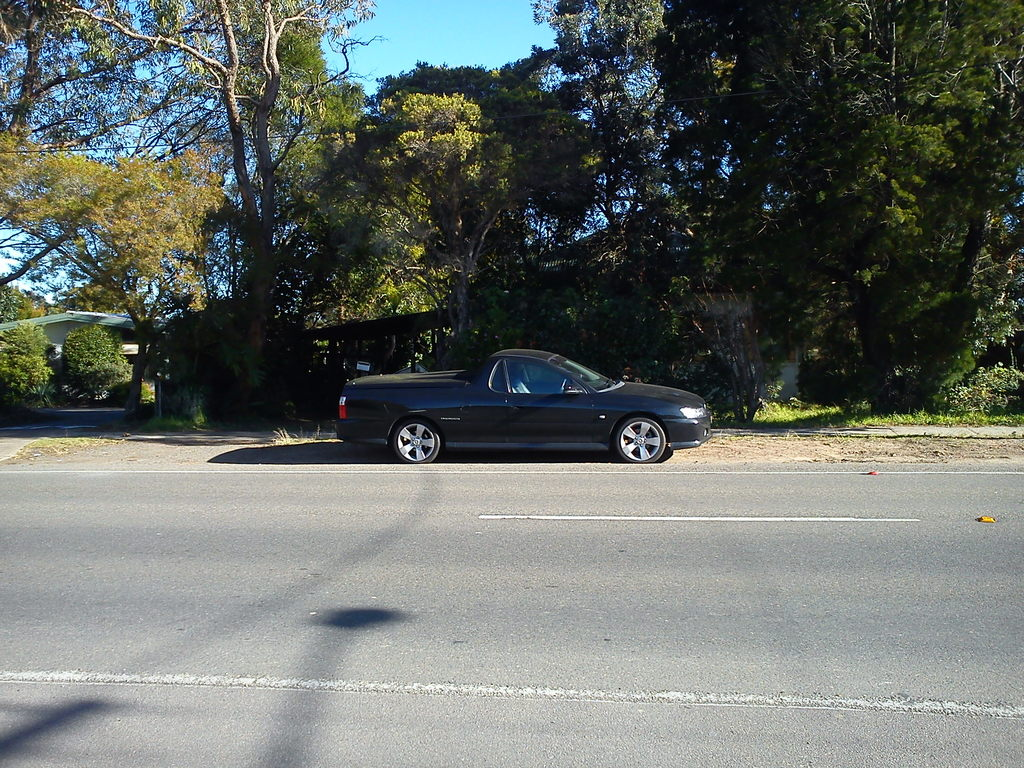Car: (335, 341, 693, 468)
